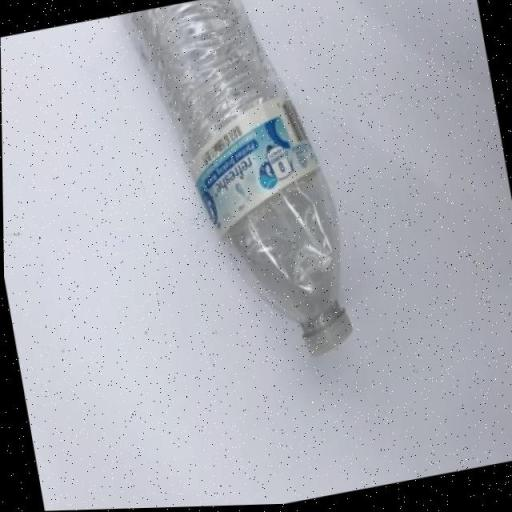plastic: (121, 0, 357, 386)
